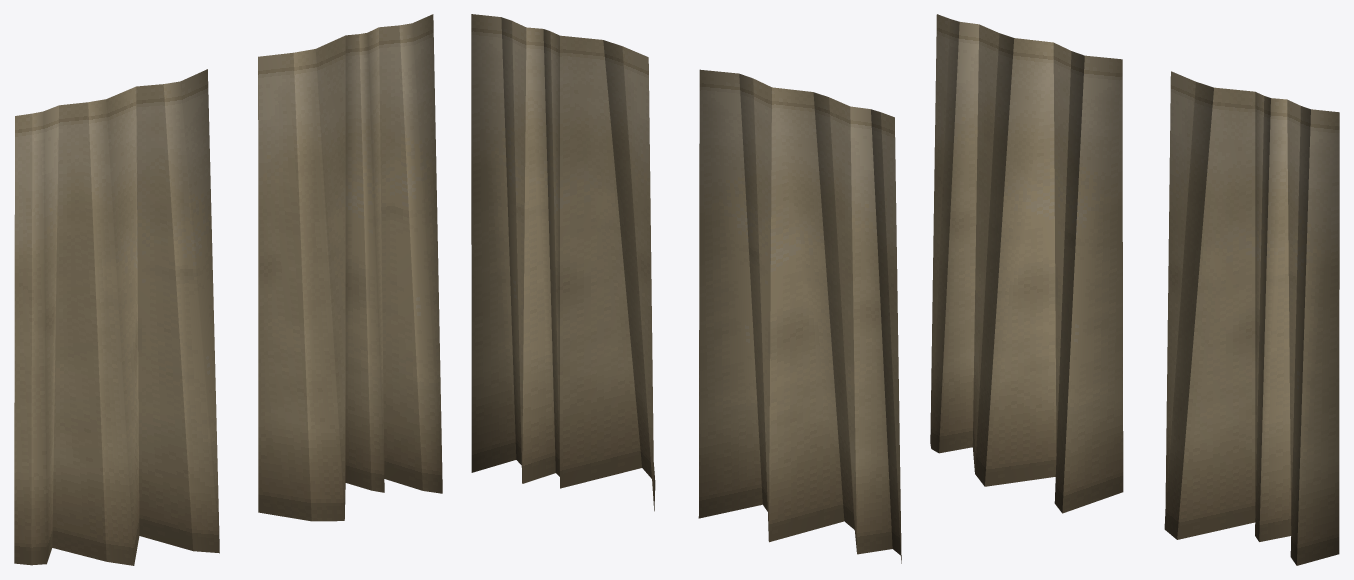
Rendered from prop_curtain-closed-2.glb.
3 renders of one model, left to right at view 1: azimuth 30°, elevation 25°; view 2: azimuth 150°, elevation 25°; view 3: azimuth 330°, elevation 25°, orthographic. The views are drawn at different scales.
Visible parts, largest first — view 1: prop_curtain-closed-2; view 2: prop_curtain-closed-2; view 3: prop_curtain-closed-2.
Boxes of the visible parts, x1=… form: prop_curtain-closed-2: x1=14, y1=14, x2=442, y2=565; prop_curtain-closed-2: x1=471, y1=14, x2=901, y2=563; prop_curtain-closed-2: x1=930, y1=14, x2=1339, y2=565.
Size of the model in its own units: 1.74 by 1.78 by 0.2841.
1 material, 1 textured.
